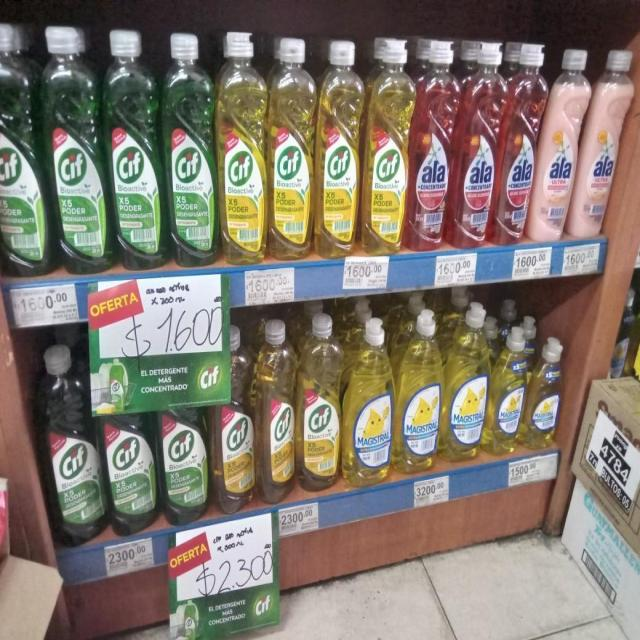ala_conc_rojo: (410, 39, 453, 252), (455, 41, 497, 250), (498, 42, 536, 248)
ala_ultra_rosa: (578, 48, 624, 240), (537, 46, 577, 244)
cif_conc_bot_amarilla: (219, 32, 267, 264), (268, 36, 314, 259), (316, 38, 361, 258), (364, 37, 408, 254), (212, 322, 254, 512), (298, 312, 342, 493), (256, 317, 296, 502)
cif_conc_botella_verde: (46, 23, 107, 273), (108, 28, 163, 268), (38, 344, 102, 546), (165, 31, 217, 267), (0, 22, 45, 277), (106, 410, 156, 534), (160, 402, 208, 524)
magistral_con_amarillo: (344, 316, 394, 486), (397, 309, 442, 474), (445, 303, 488, 463), (491, 326, 526, 456), (528, 335, 564, 450)
